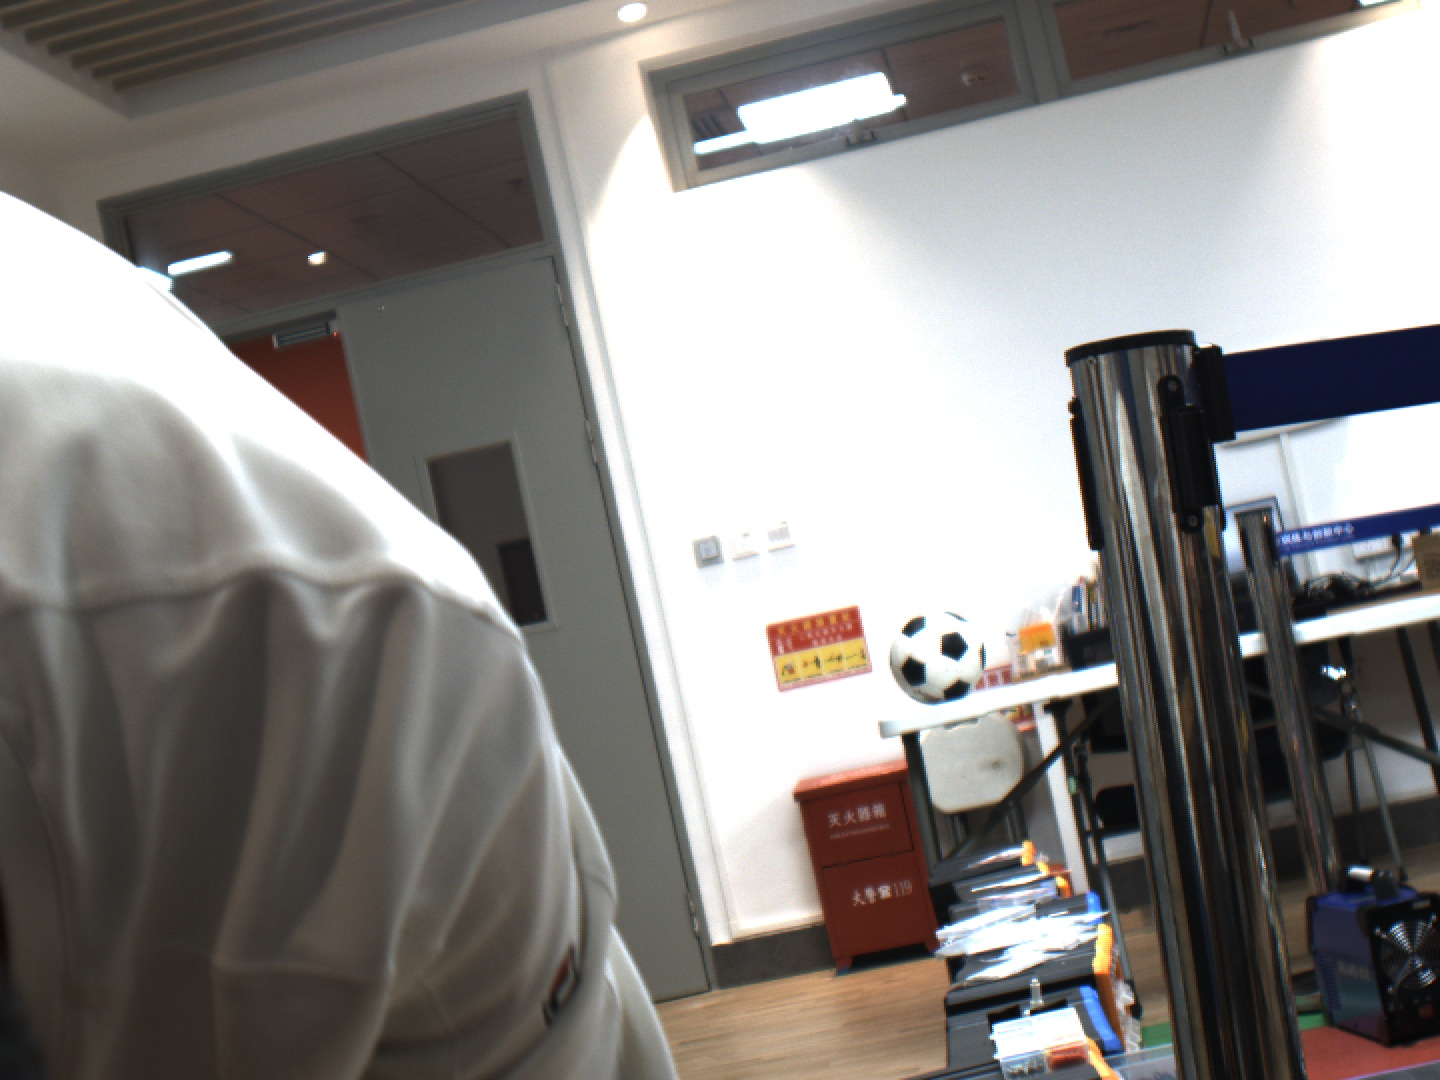ball: (878, 593, 1003, 720)
